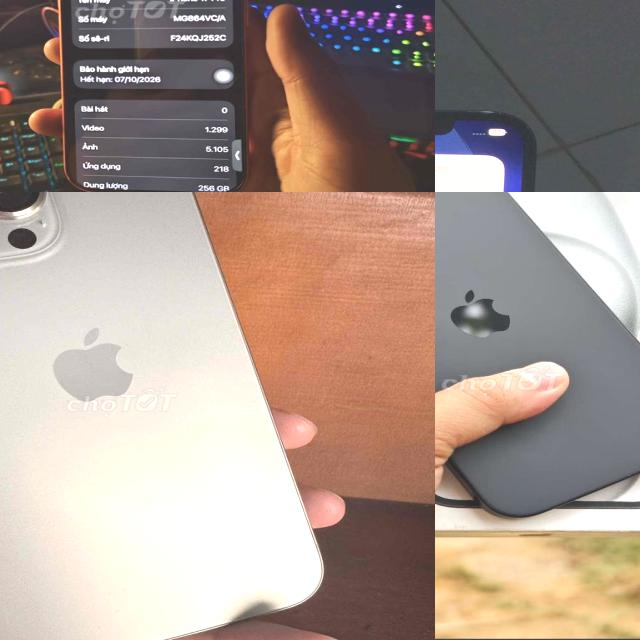gen_12_13: (435, 97, 545, 192)
gen_15: (0, 192, 328, 640), (435, 192, 640, 526)
gen_17: (59, 0, 259, 192)
